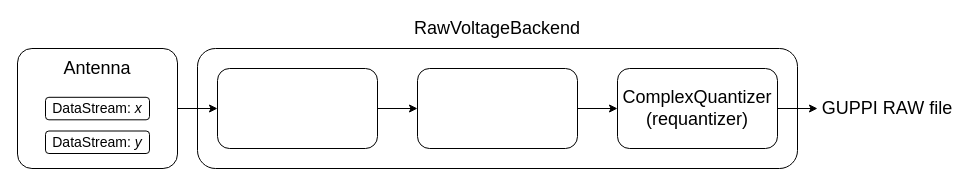
Some shapes in this 975 by 188 pixel diagram are drawn without their labels. The centre of each missing label's shape, as x and y in pixels:
"Polyphase Filterbank (PFB)" goes at [497,108].
"RealQuantizer (digitizer)" goes at [297,108].
